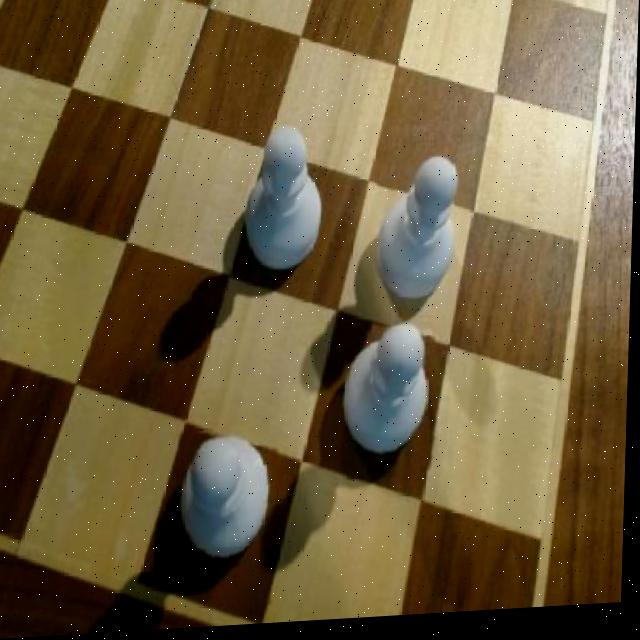white-knight: (242, 121, 345, 291), (180, 425, 286, 576), (342, 328, 443, 486), (375, 159, 474, 320)
